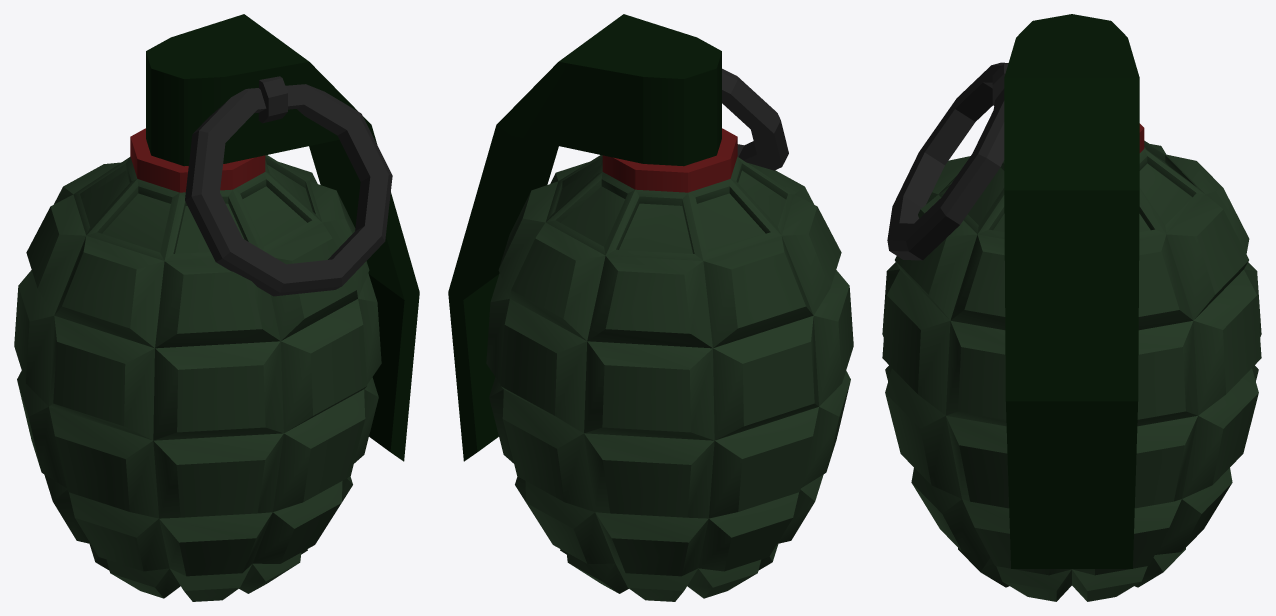
File: Grenade_Pineapple.fbx
The picture shows the model from 3 angles, left to right: view 1: azimuth 30°, elevation 25°; view 2: azimuth 150°, elevation 25°; view 3: azimuth 270°, elevation 25°; orthographic projection. The views are drawn at different scales.
Parts seen in each view (by area): view 1: Sphere; view 2: Sphere; view 3: Sphere.
Part boxes in pixels (x1=…): Sphere: x1=14, y1=14, x2=419, y2=601; Sphere: x1=448, y1=14, x2=853, y2=601; Sphere: x1=882, y1=14, x2=1261, y2=601.
Bounding box in the file's own units: 11.03 × 15.5 × 10.03.
